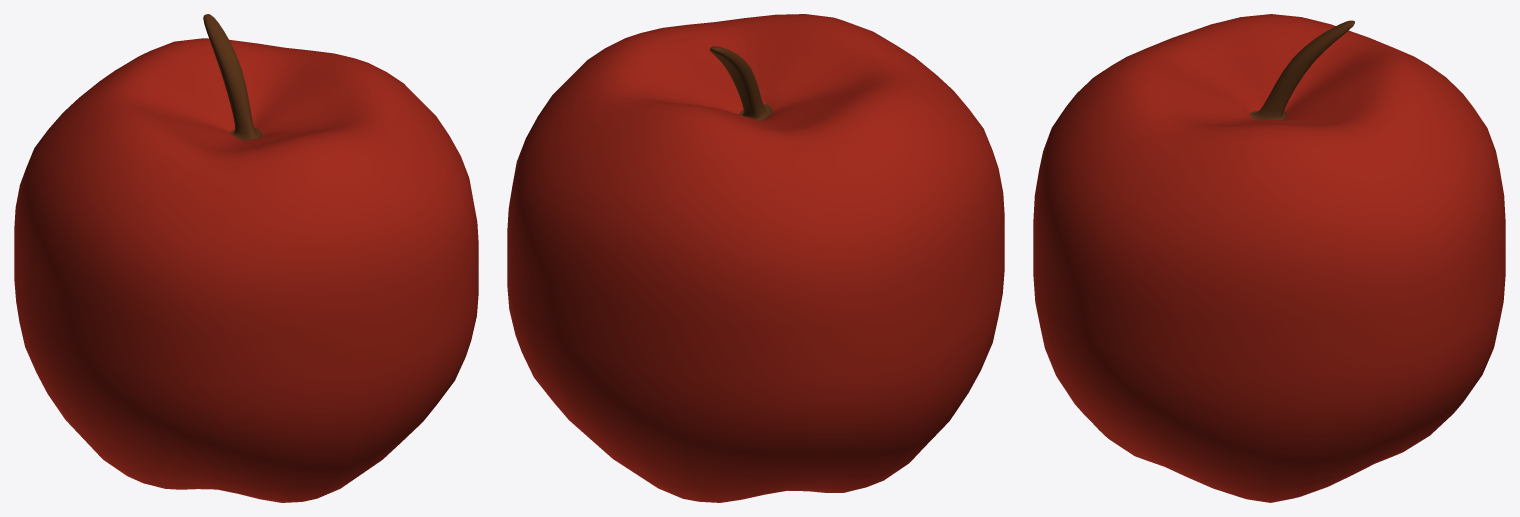
The model's file is Apple.fbx.
3 renders of one model, left to right at view 1: azimuth 30°, elevation 25°; view 2: azimuth 150°, elevation 25°; view 3: azimuth 270°, elevation 25°, orthographic. The views are drawn at different scales.
Parts seen in each view (by area): view 1: Cube; view 2: Cube; view 3: Cube.
Part boxes in pixels (x1,y1,x2,y2): Cube: (14,14,478,502); Cube: (507,14,1004,502); Cube: (1033,14,1505,502).
Size of the model in its own units: 246 by 250 by 246.
